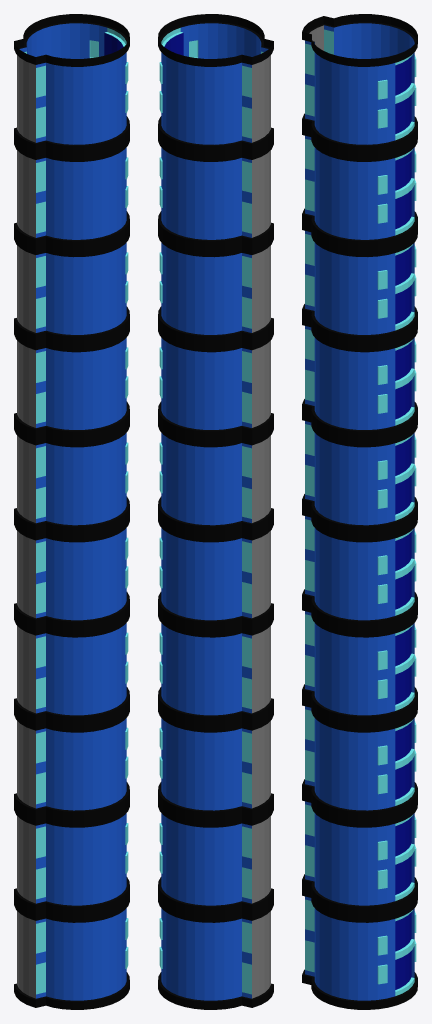
File: PonteMatriz.fbx
3 views of the same model, side by side, from view 1: azimuth 30°, elevation 25°; view 2: azimuth 150°, elevation 25°; view 3: azimuth 330°, elevation 25° (orthographic).
Parts seen in each view (by area): view 1: Cubo; view 2: Cubo; view 3: Cubo.
Boxes of the visible parts, x1,y1,x2,y2 form: Cubo: (14,14,129,1009); Cubo: (158,14,273,1009); Cubo: (302,14,417,1009).
Bounding box in the file's own units: 308 × 2734 × 278.
